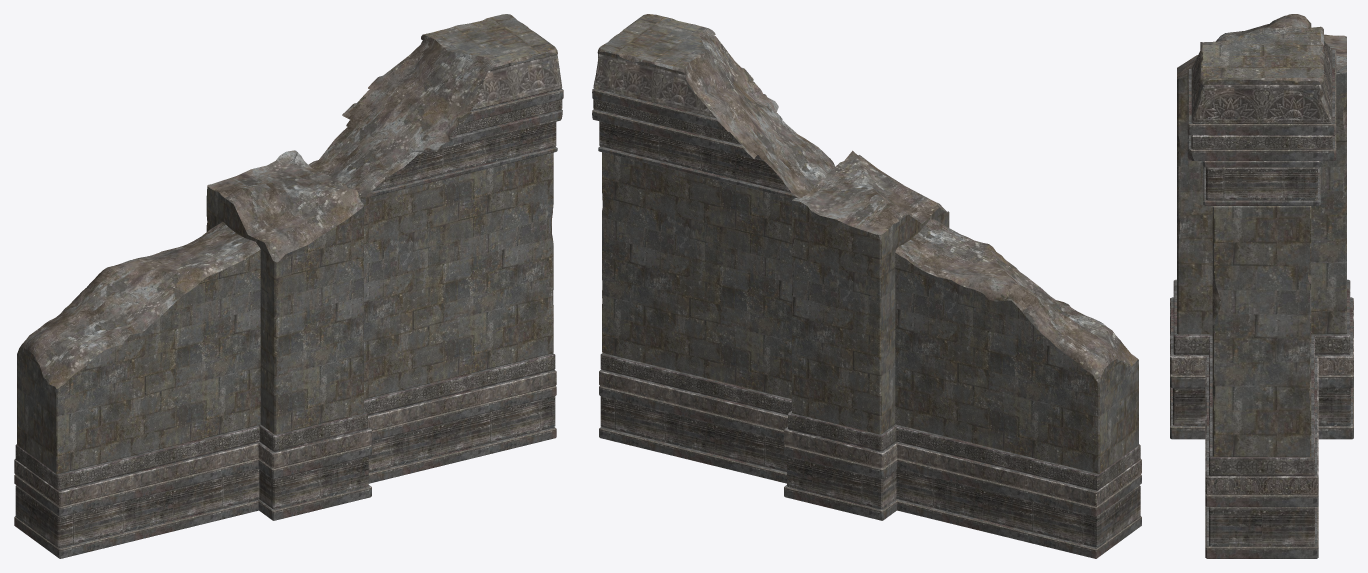
File: cargo_ruin_wall.glb
The picture shows the model from 3 angles, left to right: view 1: azimuth 30°, elevation 25°; view 2: azimuth 150°, elevation 25°; view 3: azimuth 270°, elevation 25°; orthographic projection. The views are drawn at different scales.
Visible parts, largest first — view 1: KB3D_SOL_PropBrokenWall_B; view 2: KB3D_SOL_PropBrokenWall_B; view 3: KB3D_SOL_PropBrokenWall_B.
Part boxes in pixels (x1,y1,x2,y2): KB3D_SOL_PropBrokenWall_B: (14, 14, 563, 558); KB3D_SOL_PropBrokenWall_B: (592, 14, 1141, 558); KB3D_SOL_PropBrokenWall_B: (1170, 14, 1353, 558).
Size of the model in its own units: 8 by 6 by 2.08.
Materials: 3 (3 with a texture image).
